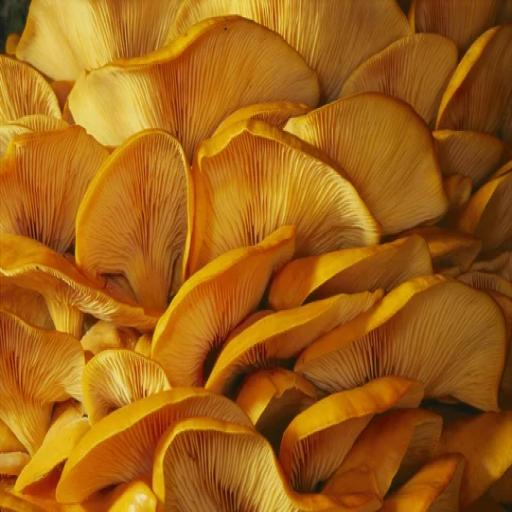Jack O Lantern Mushroom: (60, 12, 309, 138), (307, 275, 512, 415), (203, 101, 372, 255), (138, 231, 301, 390), (72, 125, 206, 316), (291, 83, 445, 227), (57, 392, 241, 510), (193, 291, 384, 391), (285, 380, 419, 512), (141, 411, 311, 512), (0, 224, 149, 337), (13, 0, 202, 71), (331, 26, 462, 128), (430, 25, 512, 167), (0, 48, 65, 152)
